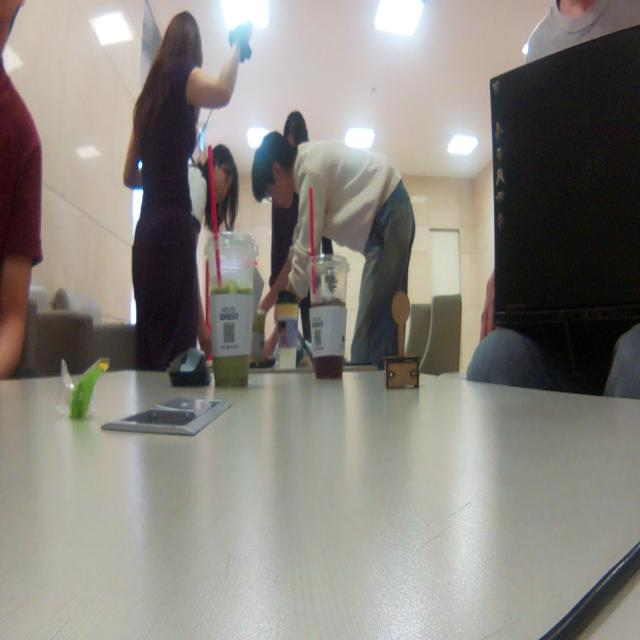target: (385, 289, 419, 391)
